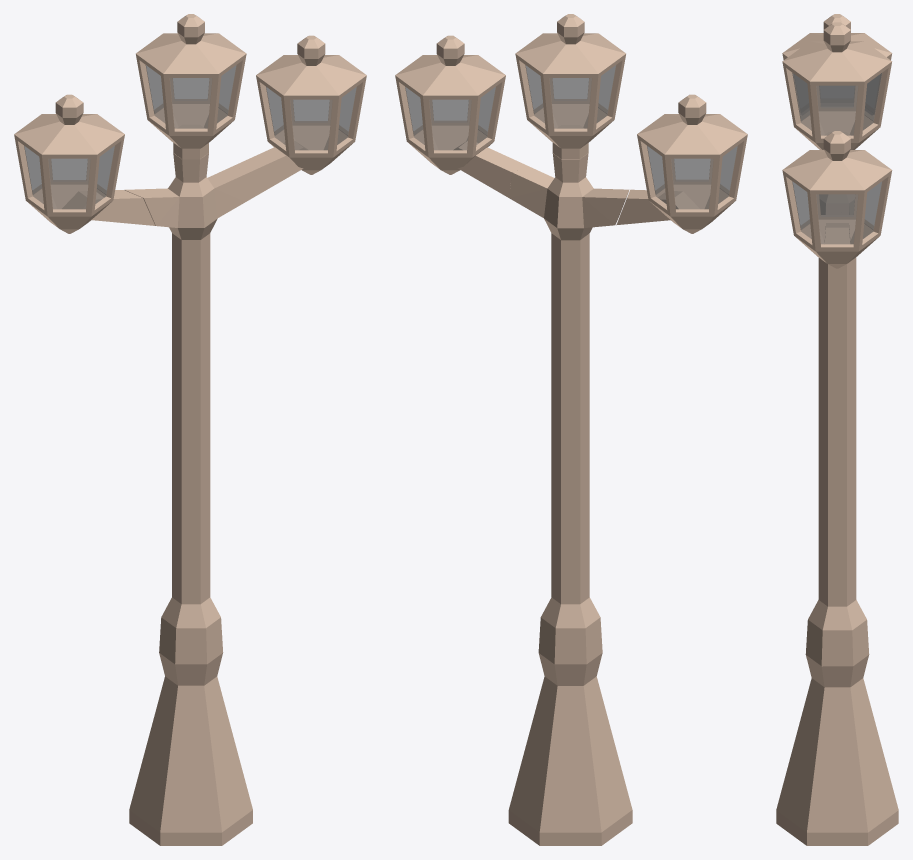
Rendered from street_light_broken.fbx.
3 renders of one model, left to right at view 1: azimuth 30°, elevation 25°; view 2: azimuth 150°, elevation 25°; view 3: azimuth 270°, elevation 25°, orthographic.
Visible parts, largest first — view 1: street_light_broken_Part_8, street_light_broken_Part_3, street_light_broken_Part_6, street_light_broken_Part_1, street_light_broken_Part_7, street_light_broken_Part_5, street_light_broken_Part_2, street_light_broken_Part_4; view 2: street_light_broken_Part_3, street_light_broken_Part_8, street_light_broken_Part_6, street_light_broken_Part_1, street_light_broken_Part_7, street_light_broken_Part_5, street_light_broken_Part_2, street_light_broken_Part_4; view 3: street_light_broken_Part_1, street_light_broken_Part_3, street_light_broken_Part_8, street_light_broken_Part_7, street_light_broken_Part_5, street_light_broken_Part_2, street_light_broken_Part_6.
Boxes of the visible parts, left/top/right/bottom form: street_light_broken_Part_8: left=238, top=35, right=366, bottom=201; street_light_broken_Part_3: left=160, top=360, right=223, bottom=657; street_light_broken_Part_6: left=14, top=94, right=155, bottom=233; street_light_broken_Part_1: left=129, top=693, right=252, bottom=845; street_light_broken_Part_7: left=136, top=14, right=246, bottom=159; street_light_broken_Part_5: left=124, top=153, right=245, bottom=361; street_light_broken_Part_2: left=145, top=640, right=222, bottom=766; street_light_broken_Part_4: left=172, top=299, right=207, bottom=374; street_light_broken_Part_3: left=538, top=361, right=601, bottom=658; street_light_broken_Part_8: left=395, top=35, right=529, bottom=197; street_light_broken_Part_6: left=616, top=94, right=747, bottom=233; street_light_broken_Part_1: left=508, top=693, right=632, bottom=845; street_light_broken_Part_7: left=515, top=14, right=625, bottom=159; street_light_broken_Part_5: left=509, top=153, right=629, bottom=367; street_light_broken_Part_2: left=539, top=640, right=616, bottom=766; street_light_broken_Part_4: left=560, top=293, right=589, bottom=373; street_light_broken_Part_1: left=776, top=705, right=898, bottom=845; street_light_broken_Part_3: left=806, top=367, right=868, bottom=667; street_light_broken_Part_8: left=782, top=131, right=892, bottom=268; street_light_broken_Part_7: left=782, top=22, right=892, bottom=149; street_light_broken_Part_5: left=818, top=194, right=856, bottom=372; street_light_broken_Part_2: left=801, top=648, right=873, bottom=716; street_light_broken_Part_6: left=782, top=14, right=892, bottom=116.
Bounding box in the file's own units: 158 × 374 × 52.04.
Materials: 2 (1 with a texture image).
